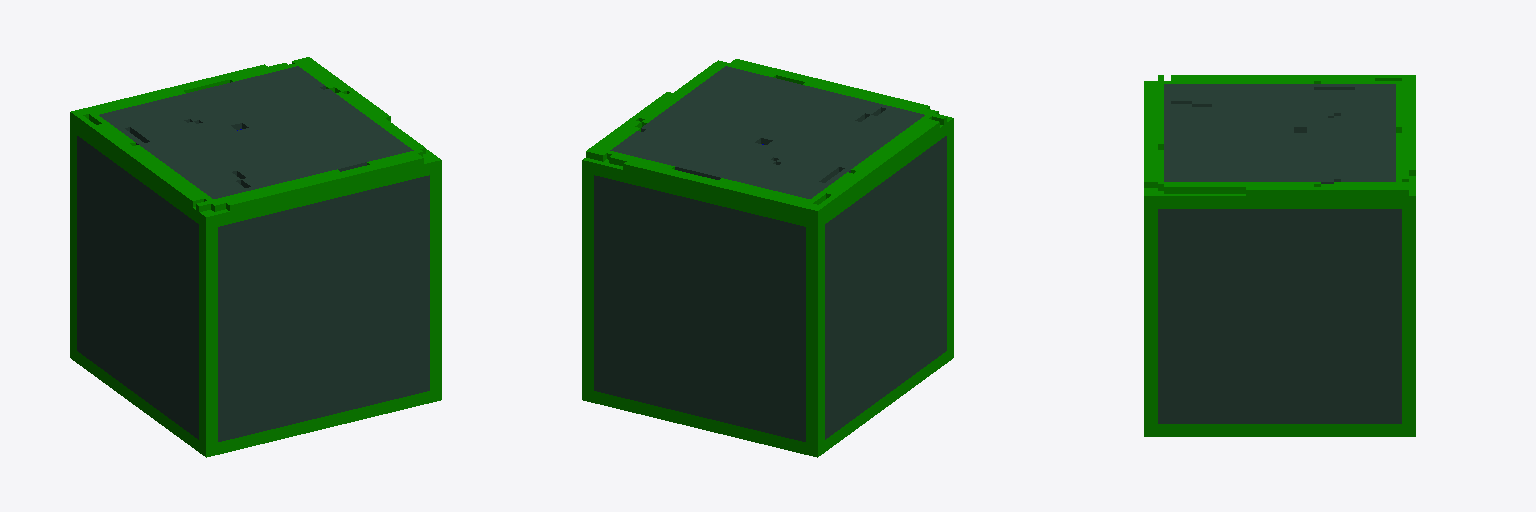
3 views of the same model, side by side, from view 1: azimuth 30°, elevation 25°; view 2: azimuth 150°, elevation 25°; view 3: azimuth 270°, elevation 25° (orthographic).
Parts seen in each view (by area): view 1: object 1; view 2: object 1; view 3: object 1.
Part boxes in pixels (bbox=[...]): object 1: bbox=[70, 57, 441, 457]; object 1: bbox=[582, 59, 953, 457]; object 1: bbox=[1144, 75, 1415, 436].
Size of the model in its own units: 4 by 4 by 4.
1 materials, 1 textured.